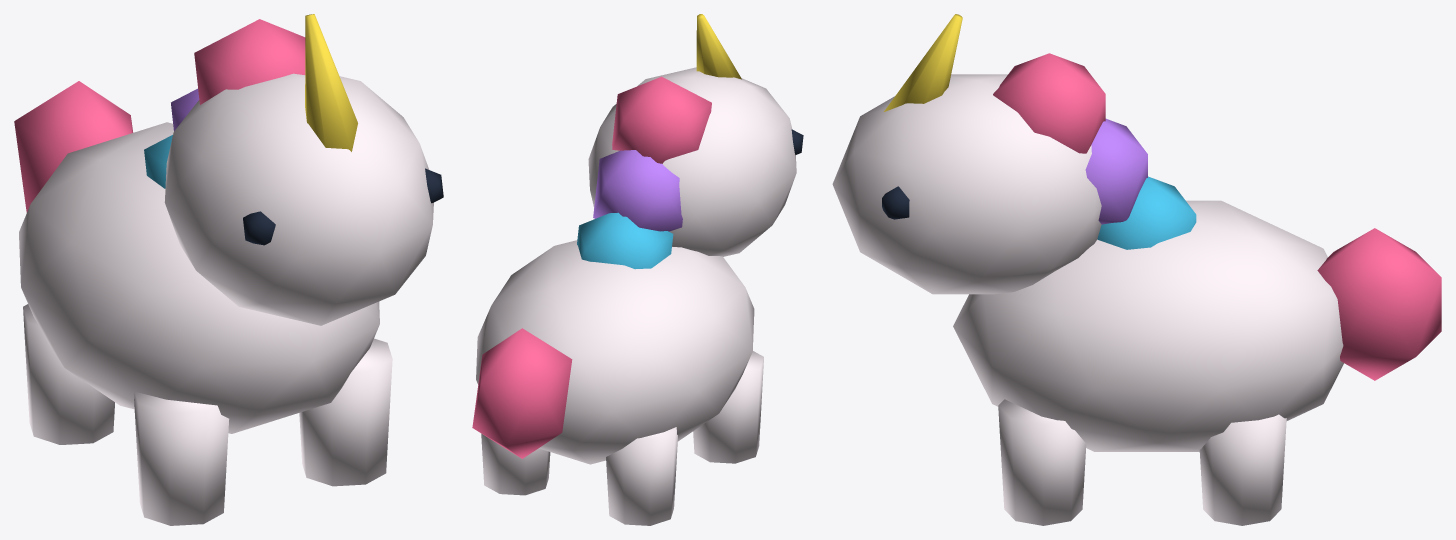
File: w2_06_unicorn.glb
The picture shows the model from 3 angles, left to right: view 1: azimuth 30°, elevation 25°; view 2: azimuth 150°, elevation 25°; view 3: azimuth 270°, elevation 25°; orthographic projection. The views are drawn at different scales.
Visible parts, largest first — view 1: W2_06_Unicorn; view 2: W2_06_Unicorn; view 3: W2_06_Unicorn.
Boxes of the visible parts, box(x1,y1,x2,y2) form: W2_06_Unicorn: box(14, 14, 443, 525); W2_06_Unicorn: box(472, 14, 803, 525); W2_06_Unicorn: box(832, 14, 1441, 525).
Bounding box in the file's own units: 0.9891 × 1.68 × 2.02.
Materials: 1 (1 with a texture image).
